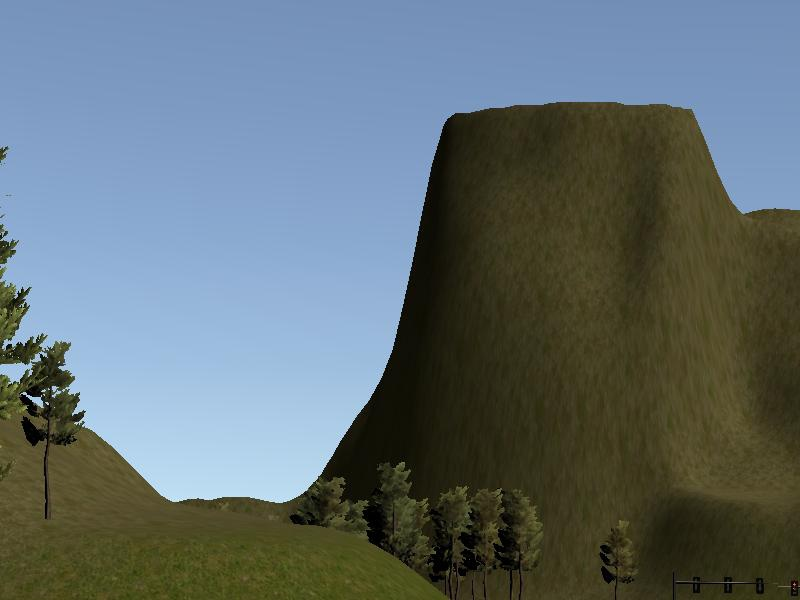Red: (790, 581, 796, 596)
